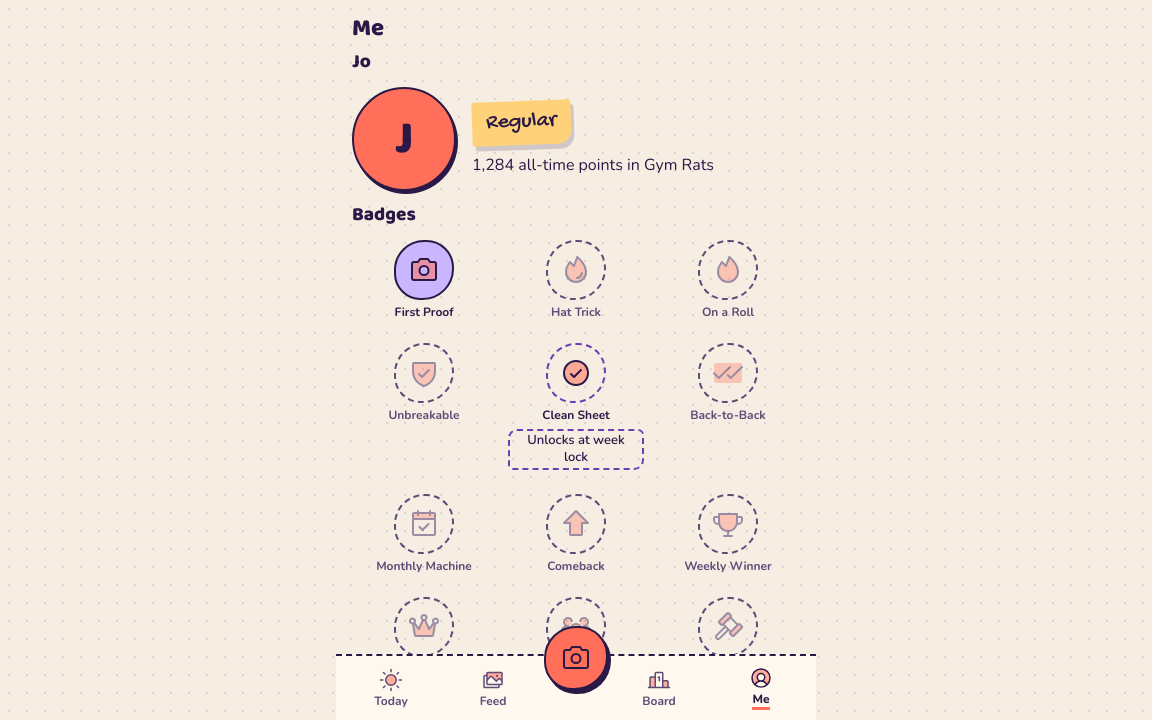
Test: Me profile (Story 4.6) › the Title sticky opens the ladder with the current title marked by a check and text
Click the button with aria-label "Title: Regular. Show all titles" at (521, 123), box [471, 100, 571, 147]
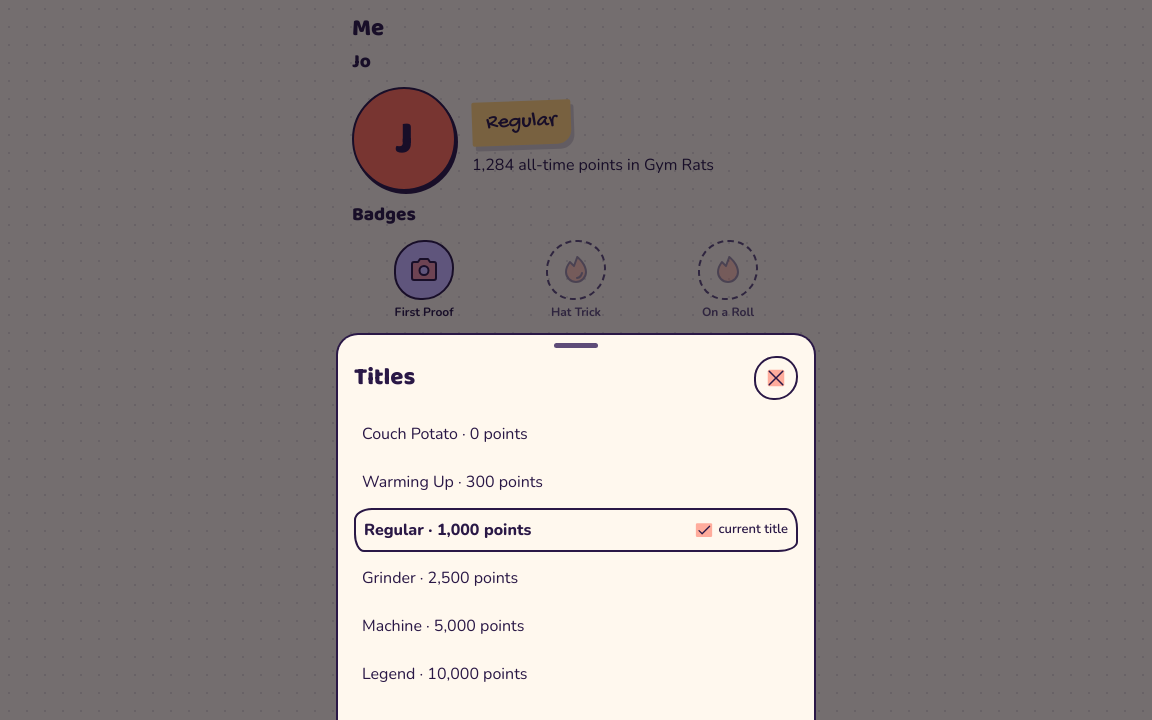
Expected: the list items read "Couch Potato · 0 points", "Warming Up · 300 points", "Regular · 1,000 pointscurrent title", "Grinder · 2,500 points", "Machine · 5,000 points", "Legend · 10,000 points", in this order, [362, 423, 528, 445]; [362, 471, 543, 493]; [354, 508, 798, 552]; [362, 567, 518, 589]; [362, 615, 524, 637]; [362, 663, 527, 685]
